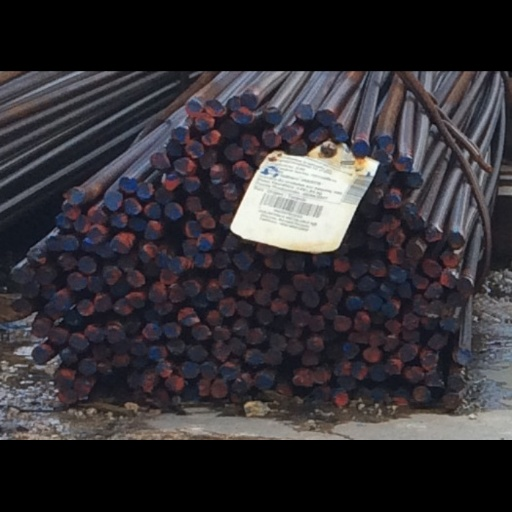dipstick: (172, 119, 195, 145), (208, 129, 231, 155), (290, 326, 311, 354), (284, 249, 305, 277), (349, 257, 368, 287), (231, 124, 252, 151), (54, 415, 74, 443), (103, 166, 123, 194), (231, 250, 252, 276), (101, 270, 121, 297), (239, 87, 259, 114), (370, 107, 392, 131), (305, 75, 327, 99), (66, 279, 87, 304), (177, 327, 198, 352), (211, 376, 231, 402), (25, 245, 46, 269), (262, 384, 283, 408), (291, 282, 312, 306), (104, 353, 124, 378), (126, 276, 146, 301), (87, 189, 107, 214), (142, 207, 162, 232), (219, 69, 239, 94), (267, 362, 287, 387), (264, 250, 284, 275), (373, 89, 393, 114), (61, 178, 80, 204), (231, 49, 252, 72), (398, 184, 419, 207), (34, 271, 54, 295), (204, 40, 224, 64), (200, 106, 216, 136), (152, 315, 172, 339), (387, 270, 407, 294), (421, 213, 441, 237), (65, 160, 84, 185), (195, 58, 214, 83), (218, 275, 237, 300), (329, 73, 348, 98), (293, 413, 312, 438), (259, 281, 278, 306), (363, 309, 382, 334), (421, 261, 440, 286), (404, 139, 423, 164), (149, 293, 167, 319), (224, 100, 242, 126), (424, 292, 442, 318), (218, 406, 239, 428), (69, 363, 89, 386), (141, 350, 161, 373), (246, 356, 266, 379), (427, 364, 447, 387), (353, 333, 370, 360), (78, 398, 97, 422), (113, 314, 132, 338), (93, 309, 112, 333), (187, 380, 206, 404), (398, 379, 417, 403), (138, 240, 156, 265), (228, 369, 246, 394), (386, 219, 404, 244), (387, 243, 405, 268), (219, 314, 236, 340), (365, 159, 382, 185), (190, 352, 211, 373), (9, 272, 29, 294), (160, 142, 180, 164), (121, 342, 141, 364), (19, 291, 38, 314), (44, 321, 63, 344), (164, 422, 183, 445), (181, 403, 200, 426), (168, 257, 187, 280), (11, 318, 30, 341), (315, 53, 334, 76), (244, 384, 263, 407), (256, 328, 275, 351), (284, 370, 303, 393), (283, 347, 302, 370), (366, 360, 385, 383), (359, 284, 378, 307), (406, 196, 425, 219), (58, 252, 76, 276), (77, 257, 95, 281), (164, 182, 182, 206), (185, 96, 203, 120), (219, 226, 237, 250), (235, 318, 253, 342), (278, 295, 296, 319), (324, 299, 342, 323), (421, 391, 439, 415), (210, 427, 227, 452), (232, 344, 249, 369), (218, 176, 238, 197), (362, 383, 382, 404), (183, 207, 202, 229), (150, 113, 169, 135), (170, 78, 189, 100), (201, 81, 220, 103), (294, 46, 313, 68), (440, 341, 459, 363), (185, 38, 201, 64), (48, 356, 66, 379), (59, 384, 77, 407), (116, 255, 134, 278), (301, 305, 319, 328), (340, 376, 358, 399), (311, 251, 329, 274), (439, 279, 457, 302), (411, 279, 429, 302), (406, 238, 424, 261), (455, 286, 473, 309), (212, 251, 229, 275), (263, 50, 280, 74), (352, 404, 369, 428), (453, 385, 470, 409), (166, 95, 182, 120), (126, 307, 145, 328), (366, 209, 385, 230), (446, 424, 465, 445), (441, 448, 460, 469), (166, 372, 184, 394), (162, 348, 180, 370), (144, 182, 162, 204), (136, 154, 154, 176), (182, 145, 200, 167), (301, 388, 319, 410), (334, 338, 352, 360), (344, 312, 362, 334), (336, 284, 354, 306), (370, 407, 388, 429), (424, 319, 442, 341), (87, 283, 104, 306), (262, 82, 279, 105), (378, 292, 395, 315), (412, 437, 429, 460), (405, 409, 422, 432), (31, 382, 47, 406), (369, 262, 385, 286), (396, 292, 412, 316), (57, 440, 76, 460), (204, 332, 223, 352), (110, 233, 128, 254), (159, 273, 177, 294), (194, 252, 212, 273), (239, 30, 257, 51), (254, 421, 272, 442), (383, 343, 401, 364), (439, 251, 457, 272), (31, 345, 48, 367), (61, 228, 78, 250), (205, 297, 222, 319), (119, 147, 136, 169), (222, 155, 239, 177), (254, 303, 271, 325), (271, 317, 288, 339), (312, 411, 329, 433), (306, 368, 323, 390), (307, 338, 324, 360), (381, 198, 398, 220), (381, 320, 398, 342), (402, 336, 419, 358), (447, 222, 464, 244), (402, 358, 421, 377), (109, 197, 127, 217), (201, 403, 216, 427), (198, 224, 213, 248), (283, 76, 298, 100), (288, 96, 306, 116), (77, 317, 94, 338), (85, 355, 102, 376), (155, 402, 172, 423), (149, 381, 166, 402), (320, 322, 337, 343), (352, 96, 368, 118), (333, 256, 349, 278), (73, 199, 88, 222), (110, 392, 129, 410), (236, 292, 254, 311), (75, 428, 92, 448), (128, 202, 145, 222), (213, 353, 230, 373), (333, 402, 350, 422), (382, 171, 399, 191), (40, 294, 56, 315), (182, 233, 198, 254), (125, 176, 140, 198), (168, 297, 183, 319), (195, 428, 210, 450), (231, 428, 246, 450), (56, 199, 72, 219), (86, 217, 102, 237), (384, 402, 400, 422), (46, 228, 61, 249), (219, 197, 234, 218), (383, 367, 398, 388), (396, 119, 411, 139), (131, 376, 147, 394), (183, 292, 198, 311), (185, 175, 200, 194), (200, 200, 215, 219), (334, 443, 348, 463), (155, 253, 169, 271), (227, 36, 240, 54)
